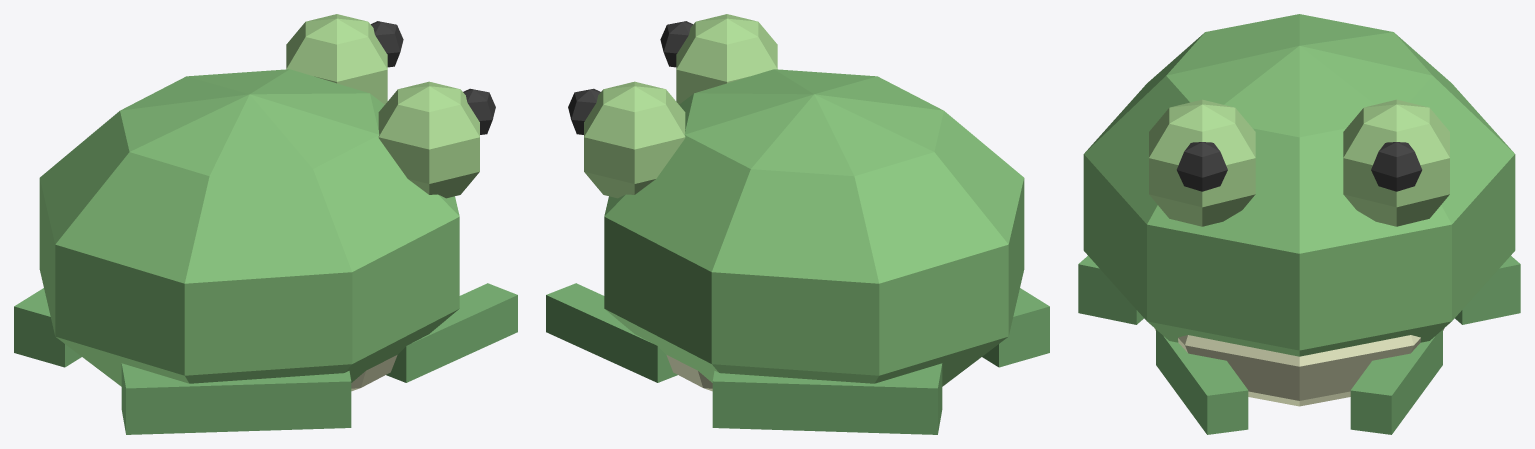
File: frog.glb
3 views of the same model, side by side, from view 1: azimuth 30°, elevation 25°; view 2: azimuth 150°, elevation 25°; view 3: azimuth 270°, elevation 25° (orthographic). The views are drawn at different scales.
Visible parts, largest first — view 1: frog-body, frog-legs, frog-eyes, frog-pupils, frog-belly; view 2: frog-body, frog-legs, frog-eyes, frog-pupils, frog-belly; view 3: frog-body, frog-eyes, frog-legs, frog-belly, frog-pupils.
Boxes of the visible parts, bbox=[...] form: frog-body: bbox=[39, 69, 459, 386]; frog-legs: bbox=[14, 283, 517, 434]; frog-eyes: bbox=[286, 14, 479, 198]; frog-pupils: bbox=[371, 21, 495, 134]; frog-belly: bbox=[351, 355, 397, 391]; frog-body: bbox=[604, 69, 1024, 386]; frog-legs: bbox=[546, 283, 1049, 434]; frog-eyes: bbox=[584, 14, 777, 198]; frog-pupils: bbox=[568, 21, 692, 134]; frog-belly: bbox=[666, 355, 712, 391]; frog-body: bbox=[1083, 14, 1515, 356]; frog-eyes: bbox=[1149, 99, 1449, 226]; frog-legs: bbox=[1078, 256, 1520, 434]; frog-belly: bbox=[1154, 328, 1444, 406]; frog-pupils: bbox=[1176, 142, 1422, 191].
Bounding box in the file's own units: 0.4711 × 0.33 × 0.4097.
